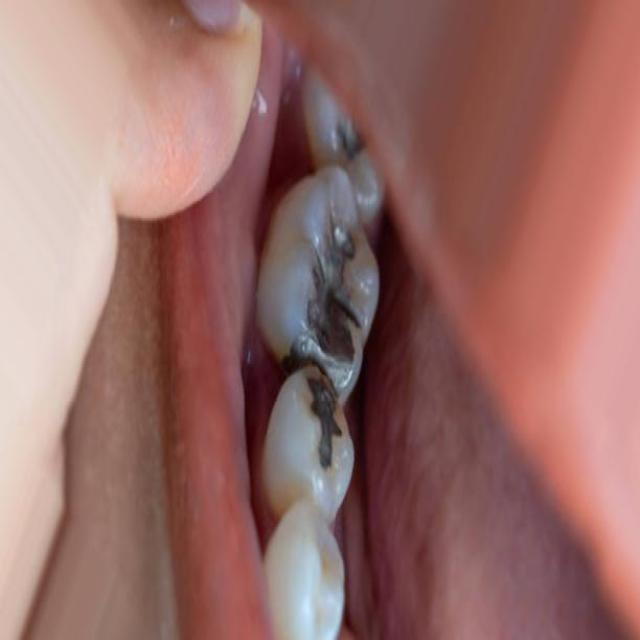caries: (293, 208, 362, 362), (293, 366, 350, 479), (323, 96, 373, 173)
